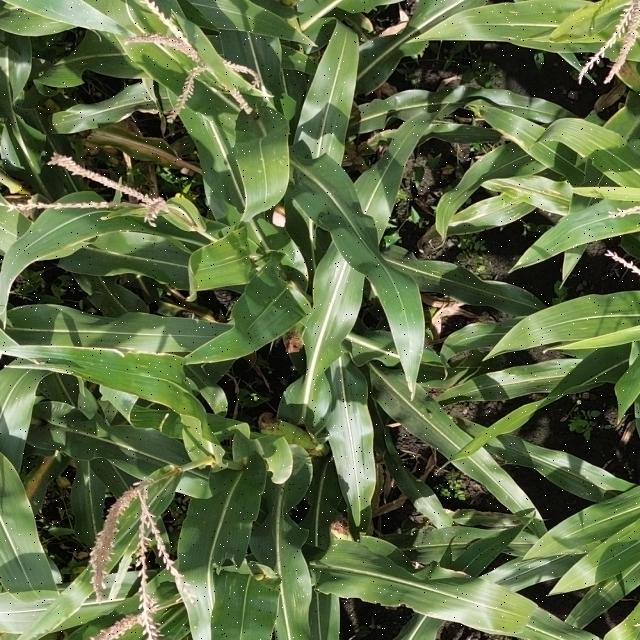gray-leaf-spot: (455, 176, 581, 231)
southern-leaf-blight: (66, 348, 194, 411), (238, 137, 295, 200), (196, 246, 267, 296)
